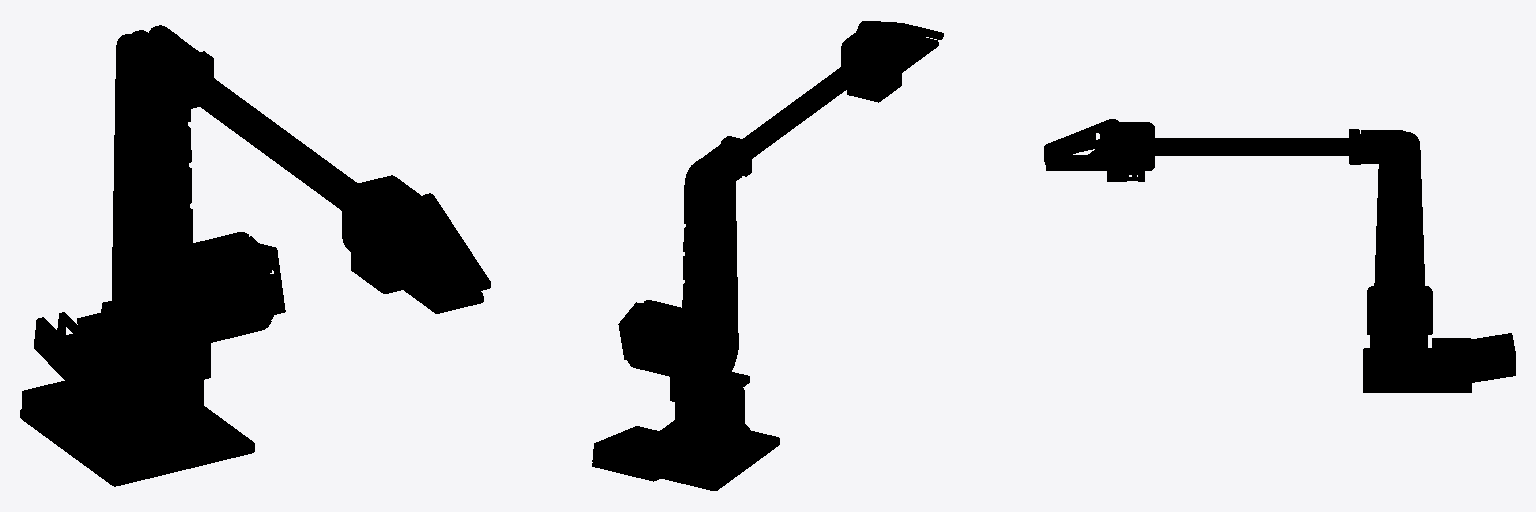
The robot description file, URDF, robot "a1_tail":
<?xml version="1.0" encoding="utf-8"?>
<!-- This URDF was automatically created by SolidWorks to URDF Exporter! Originally created by Stephen Brawner ([email redacted]) 
     Commit Version: 1.6.0-4-g7f85cfe  Build Version: 1.6.7995.38578
     For more information, please see http://wiki.ros.org/sw_urdf_exporter -->
<robot
  name="a1_tail">
  <link
    name="base_link">
    <inertial>
      <origin
        xyz="0.00368134633125201 0.00383986483493379 0.0260332873989196"
        rpy="0 0 0" />
      <mass
        value="0.555746166352667" />
      <inertia
        ixx="0.000564569531443187"
        ixy="-2.1594155115282E-05"
        ixz="-1.97006796795357E-06"
        iyy="0.000443501475714245"
        iyz="-2.02970909322008E-05"
        izz="0.000973839619785963" />
    </inertial>
    <visual>
      <origin
        xyz="0 0 0"
        rpy="0 0 0" />
      <geometry>
        <mesh
          filename="../meshes/base_link.obj" />
      </geometry>
      <material
        name="">
        <color
          rgba="0 0 0 0.8" />
      </material>
    </visual>
    <collision>
      <origin
        xyz="0 0 0"
        rpy="0 0 0" />
      <geometry>
        <mesh
          filename="../meshes/base_link.obj" />
      </geometry>
    </collision>
  </link>
  <link
    name="motor_bracket">
    <inertial>
      <origin
        xyz="-2.88836212974676E-17 0.0049442016257755 -0.000718517500351113"
        rpy="0 0 0" />
      <mass
        value="0.0361562335715199" />
      <inertia
        ixx="2.53367831062421E-05"
        ixy="-8.748397385993E-22"
        ixz="6.79410470129006E-12"
        iyy="3.34621730544853E-05"
        iyz="3.39270759533818E-23"
        izz="8.51428709634465E-06" />
    </inertial>
    <visual>
      <origin
        xyz="0 0 0"
        rpy="0 0 0" />
      <geometry>
        <mesh
          filename="../meshes/motor_bracket.obj" />
      </geometry>
      <material
        name="">
        <color
          rgba="0 0 0 0.8" />
      </material>
    </visual>
    <collision>
      <origin
        xyz="0 0 0"
        rpy="0 0 0" />
      <geometry>
        <mesh
          filename="../meshes/motor_bracket.obj" />
      </geometry>
    </collision>
  </link>
  <joint
    name="tail_shoulder_yaw_joint"
    type="revolute">
    <origin
      xyz="0 -0.0250000074045035 0.0704999736568643"
      rpy="1.5707963267949 0 0" />
    <parent
      link="base_link" />
    <child
      link="motor_bracket" />
    <axis
      xyz="0 1 0" />
    <limit
      lower="-3.1416"
      upper="3.1416"
      effort="0"
      velocity="0" />
  </joint>
  <link
    name="link_1_1">
    <inertial>
      <origin
        xyz="0.0905473652790637 0.000711260512443836 0.0132318529133212"
        rpy="0 0 0" />
      <mass
        value="0.10522422497625" />
      <inertia
        ixx="4.9170948109236E-05"
        ixy="3.44838343166424E-07"
        ixz="-6.33912476285388E-06"
        iyy="0.000566745463767469"
        iyz="1.86818652106595E-09"
        izz="0.000611643830976391" />
    </inertial>
    <visual>
      <origin
        xyz="0 0 0"
        rpy="0 0 0" />
      <geometry>
        <mesh
          filename="../meshes/link_1_1.obj" />
      </geometry>
      <material
        name="">
        <color
          rgba="0 0 0 0.8" />
      </material>
    </visual>
    <collision>
      <origin
        xyz="0 0 0"
        rpy="0 0 0" />
      <geometry>
        <mesh
          filename="../meshes/link_1_1.obj" />
      </geometry>
    </collision>
  </link>
  <joint
    name="tail_shoulder_pitch_joint"
    type="revolute">
    <origin
      xyz="0 0.052 0"
      rpy="-1.5708 0 1.5708" />
    <parent
      link="motor_bracket" />
    <child
      link="link_1_1" />
    <axis
      xyz="0 0 -1" />
    <limit
      lower="-1.5708"
      upper="1.5708"
      effort="0"
      velocity="0" />
  </joint>
  <link
    name="link_2">
    <inertial>
      <origin
        xyz="-6.96295926472246E-09 -0.080424811499244 -5.62814089838616E-05"
        rpy="0 0 0" />
      <mass
        value="0.0763189346847985" />
      <inertia
        ixx="0.000193794609294917"
        ixy="-4.46258884884084E-12"
        ixz="1.575349661543E-11"
        iyy="1.19346850461047E-05"
        iyz="-3.84316854395656E-07"
        izz="0.000200914946760075" />
    </inertial>
    <visual>
      <origin
        xyz="0 0 0"
        rpy="0 0 0" />
      <geometry>
        <mesh
          filename="../meshes/link_2.obj" />
      </geometry>
      <material
        name="">
        <color
          rgba="0 0 0 0.8" />
      </material>
    </visual>
    <collision>
      <origin
        xyz="0 0 0"
        rpy="0 0 0" />
      <geometry>
        <mesh
          filename="../meshes/link_2.obj" />
      </geometry>
    </collision>
  </link>
  <joint
    name="elbow_joint"
    type="revolute">
    <origin
      xyz="0.22094 0.00071851 0"
      rpy="0 0 0" />
    <parent
      link="link_1_1" />
    <child
      link="link_2" />
    <axis
      xyz="0 0 1" />
    <limit
      lower="0"
      upper="1.5708"
      effort="0"
      velocity="0" />
  </joint>
  <link
    name="gripper">
    <inertial>
      <origin
        xyz="0.0573436204221779 -0.0395765636354563 -0.00060674366183752"
        rpy="0 0 0" />
      <mass
        value="0.203470349399239" />
      <inertia
        ixx="5.65426795005758E-05"
        ixy="-3.99750990342292E-05"
        ixz="1.78408717761704E-07"
        iyy="0.000230730550351754"
        iyz="-2.27266291884127E-07"
        izz="0.00026423414761495" />
    </inertial>
    <visual>
      <origin
        xyz="0 0 0"
        rpy="0 0 0" />
      <geometry>
        <mesh
          filename="../meshes/gripper.obj" />
      </geometry>
      <material
        name="">
        <color
          rgba="0 0 0 0.8" />
      </material>
    </visual>
    <collision>
      <origin
        xyz="0 0 0"
        rpy="0 0 0" />
      <geometry>
        <mesh
          filename="../meshes/gripper.obj" />
      </geometry>
    </collision>
  </link>
  <joint
    name="gripper_fixed_joint"
    type="fixed">
    <origin
      xyz="-0.0444441987014288 -0.336718519125746 0"
      rpy="3.14159265358979 0 -1.57079632679503" />
    <parent
      link="link_2" />
    <child
      link="gripper" />
    <axis
      xyz="0 0 0" />
  </joint>
  <link
    name="link_1_2">
    <inertial>
      <origin
        xyz="-0.0314199921617841 -0.00071837333398065 0.00385190919585071"
        rpy="0 0 0" />
      <mass
        value="0.0948432334787272" />
      <inertia
        ixx="4.75228867726751E-05"
        ixy="9.01698567690483E-10"
        ixz="-9.0340126283445E-06"
        iyy="0.000462256039513398"
        iyz="1.93962855038886E-11"
        izz="0.000505534714703268" />
    </inertial>
    <visual>
      <origin
        xyz="0 0 0"
        rpy="0 0 0" />
      <geometry>
        <mesh
          filename="../meshes/link_1_2.obj" />
      </geometry>
      <material
        name="">
        <color
          rgba="0 0 0 0.8" />
      </material>
    </visual>
    <collision>
      <origin
        xyz="0 0 0"
        rpy="0 0 0" />
      <geometry>
        <mesh
          filename="../meshes/link_1_2.obj" />
      </geometry>
    </collision>
  </link>
  <joint
    name="link_1_2"
    type="fixed">
    <origin
      xyz="0.131599993038923 0 -0.00899999748365095"
      rpy="-3.14159265358979 0 0" />
    <parent
      link="link_1_1" />
    <child
      link="link_1_2" />
    <axis
      xyz="0 0 0" />
  </joint>
  <link
    name="motor_2">
    <inertial>
      <origin
        xyz="0.000415160647521215 -0.00599711221017367 0.000853420896040624"
        rpy="0 0 0" />
      <mass
        value="0.293750772256237" />
      <inertia
        ixx="0.000131437212880793"
        ixy="-1.45875965303565E-07"
        ixz="-5.95974642870492E-06"
        iyy="0.000249003244796522"
        iyz="8.86875080429919E-08"
        izz="0.000138018696135985" />
    </inertial>
    <visual>
      <origin
        xyz="0 0 0"
        rpy="0 0 0" />
      <geometry>
        <mesh
          filename="../meshes/motor_2.obj" />
      </geometry>
      <material
        name="">
        <color
          rgba="0 0 0 0.8" />
      </material>
    </visual>
    <collision>
      <origin
        xyz="0 0 0"
        rpy="0 0 0" />
      <geometry>
        <mesh
          filename="../meshes/motor_2.obj" />
      </geometry>
    </collision>
  </link>
  <joint
    name="motor_2"
    type="fixed">
    <origin
      xyz="0.0642499999999967 0.0520000037921046 0"
      rpy="-3.14159265358978 1.04719755119654 1.57079632679491" />
    <parent
      link="motor_bracket" />
    <child
      link="motor_2" />
    <axis
      xyz="0 0 0" />
  </joint>
  <link
    name="motor_3">
    <inertial>
      <origin
        xyz="0.0010594901135863 -0.005997111629483 -0.000262627762671955"
        rpy="0 0 0" />
      <mass
        value="0.293750772256237" />
      <inertia
        ixx="0.000131437217831497"
        ixy="-1.45906394621066E-07"
        ixz="-5.95975140378827E-06"
        iyy="0.000249003244796523"
        iyz="8.86902171652028E-08"
        izz="0.000138018691185278" />
    </inertial>
    <visual>
      <origin
        xyz="0 0 0"
        rpy="0 0 0" />
      <geometry>
        <mesh
          filename="../meshes/motor_3.obj" />
      </geometry>
      <material
        name="">
        <color
          rgba="0 0 0 0.8" />
      </material>
    </visual>
    <collision>
      <origin
        xyz="0 0 0"
        rpy="0 0 0" />
      <geometry>
        <mesh
          filename="../meshes/motor_3.obj" />
      </geometry>
    </collision>
  </link>
  <joint
    name="motor_3"
    type="fixed">
    <origin
      xyz="-0.0642499999999978 0.0520000040598411 0"
      rpy="3.14159265358978 1.04719755119673 -1.5707963267949" />
    <parent
      link="motor_bracket" />
    <child
      link="motor_3" />
    <axis
      xyz="0 0 0" />
  </joint>
</robot>

--- What the picture shows (computed from the rendered views, not written in the file) ---
3 views of the same robot in one strip: view 1: azimuth 30°, elevation 25°; view 2: azimuth 150°, elevation 25°; view 3: azimuth 270°, elevation 25° (orthographic).
Robot: a1_tail — 8 links, 7 joints (3 revolute, 4 fixed); root link base_link; default pose: all joints at 0.
Visible links, largest first — view 1: base_link, link_1_1, gripper, link_2, motor_2, link_1_2, motor_bracket; view 2: base_link, link_1_1, gripper, link_2, motor_2, link_1_2, motor_bracket; view 3: base_link, link_1_2, gripper, link_2, motor_2.
Link boxes in pixels (<box>): base_link: <box>20,301,254,486</box>; link_1_1: <box>112,34,174,352</box>; gripper: <box>342,175,490,313</box>; link_2: <box>131,25,357,210</box>; motor_2: <box>173,232,285,369</box>; link_1_2: <box>135,27,193,347</box>; motor_bracket: <box>95,336,210,392</box>; base_link: <box>592,387,779,490</box>; link_1_1: <box>695,163,738,383</box>; gripper: <box>841,21,943,102</box>; link_2: <box>693,59,866,191</box>; motor_2: <box>618,300,695,394</box>; link_1_2: <box>682,159,722,379</box>; motor_bracket: <box>670,372,749,410</box>; base_link: <box>1363,333,1515,392</box>; link_1_2: <box>1375,141,1424,285</box>; gripper: <box>1044,119,1154,181</box>; link_2: <box>1155,129,1413,164</box>; motor_2: <box>1367,274,1432,345</box>.
Size in the robot's own frame: 0.1705 by 0.6472 by 0.3735 metres.
Meshes: 8 distinct files referenced, 7 mesh visuals loaded (7 OBJ); not drawn: 1 (reference not matched to a file when rendering).
